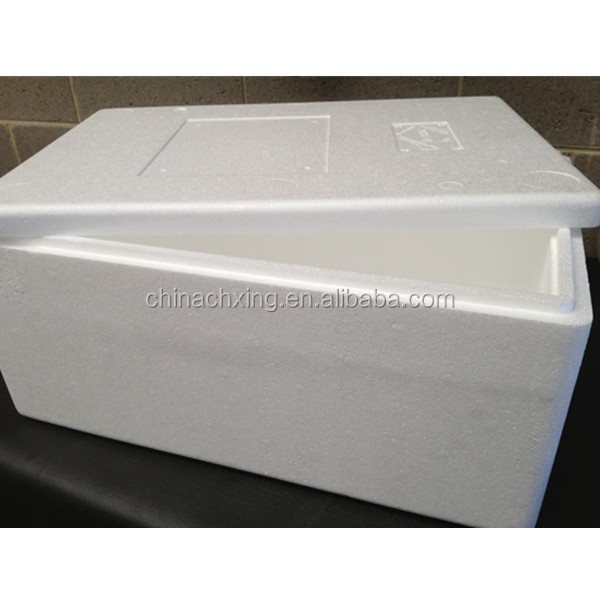泡沫箱: (0, 98, 599, 527)
